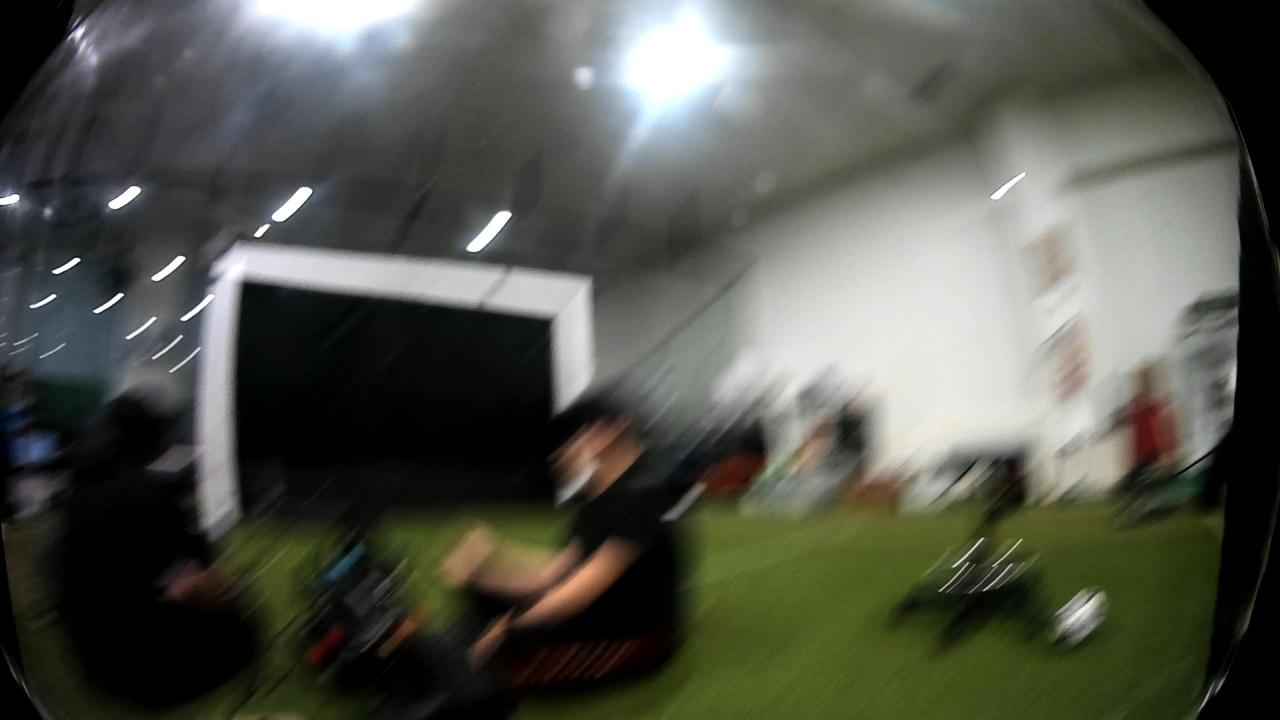ball: (1045, 577, 1115, 658)
